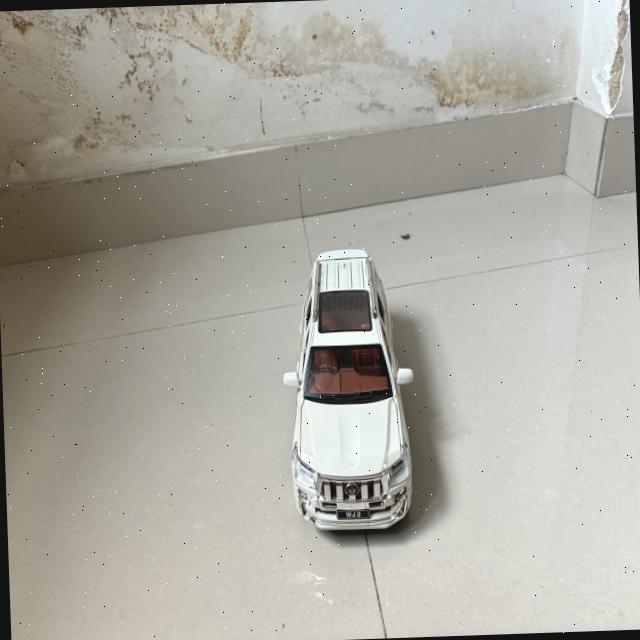jeep: (283, 246, 413, 539)
